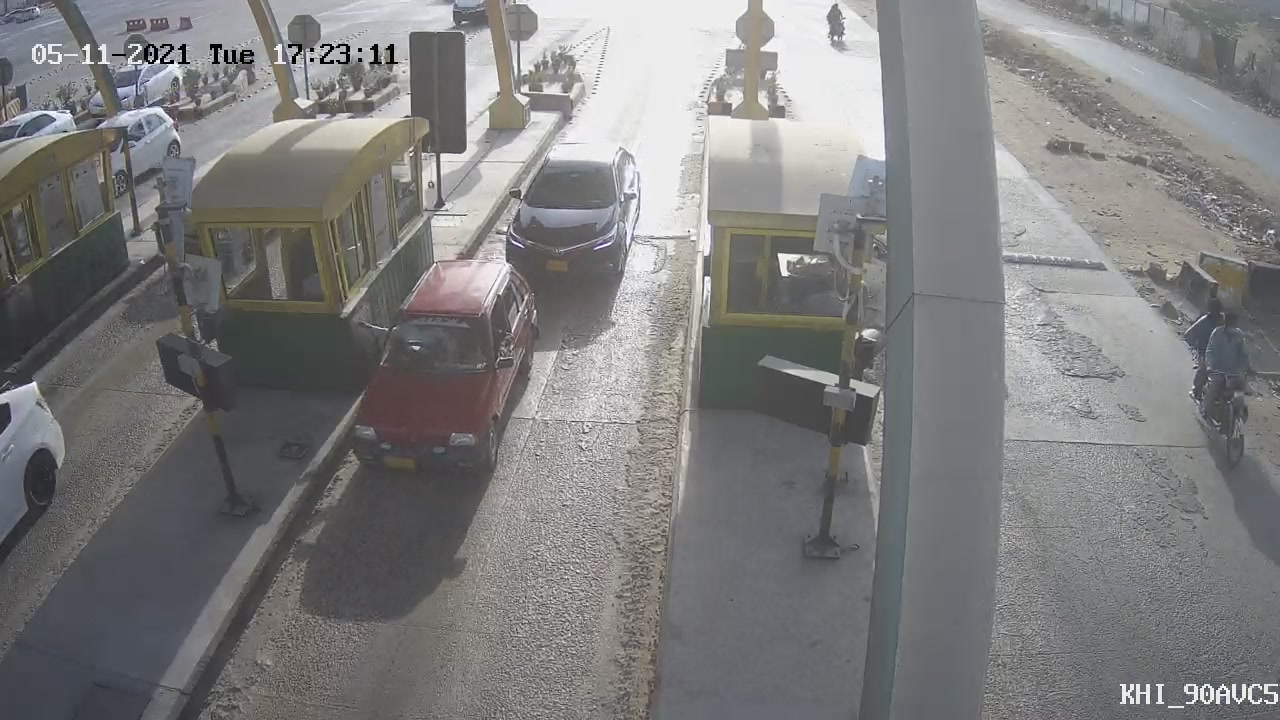F1: (322, 244, 551, 496), (481, 124, 665, 320)
